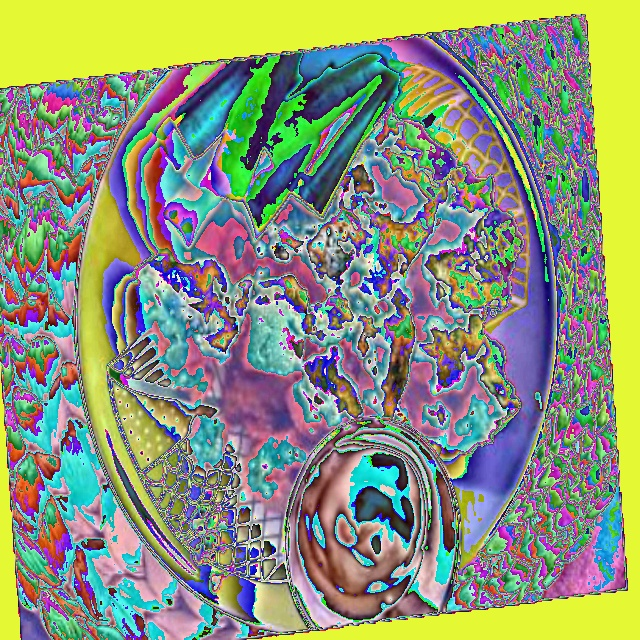background: (133, 52, 526, 513), (135, 187, 430, 625)
